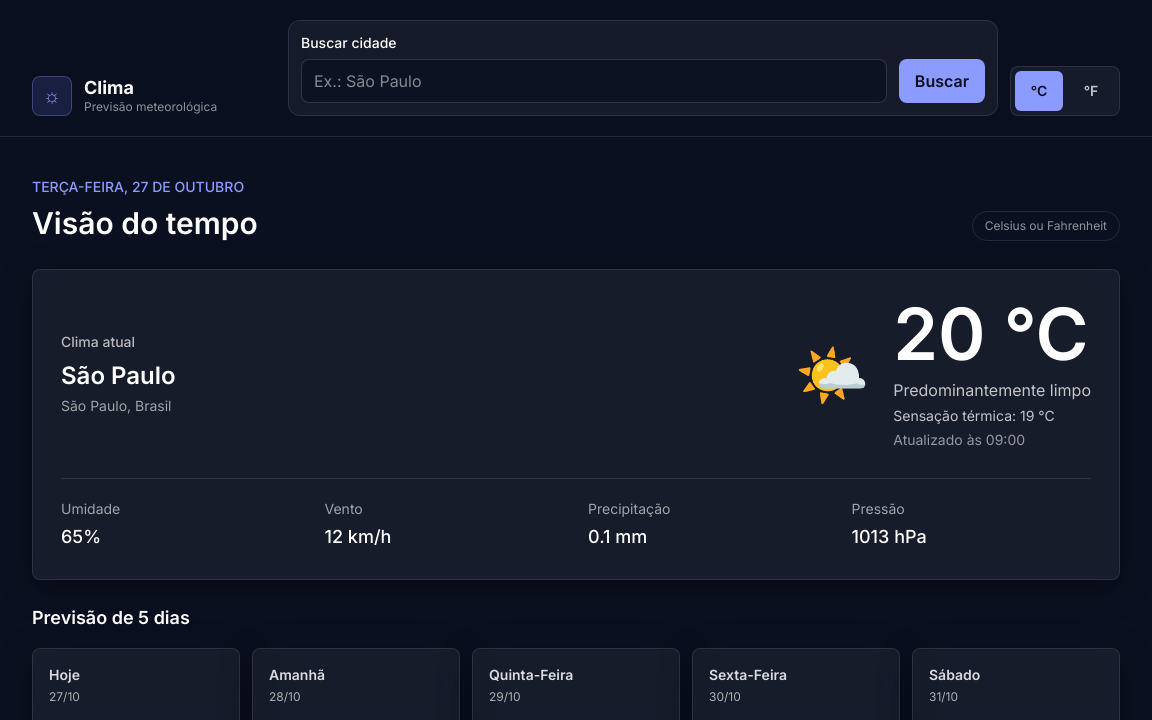
Test: App: foco e loading › não move o foco ao trocar unidade e não refaz busca
Click the button named "Fahrenheit": (1091, 91) top-left (1067, 71), bottom-right (1115, 111)
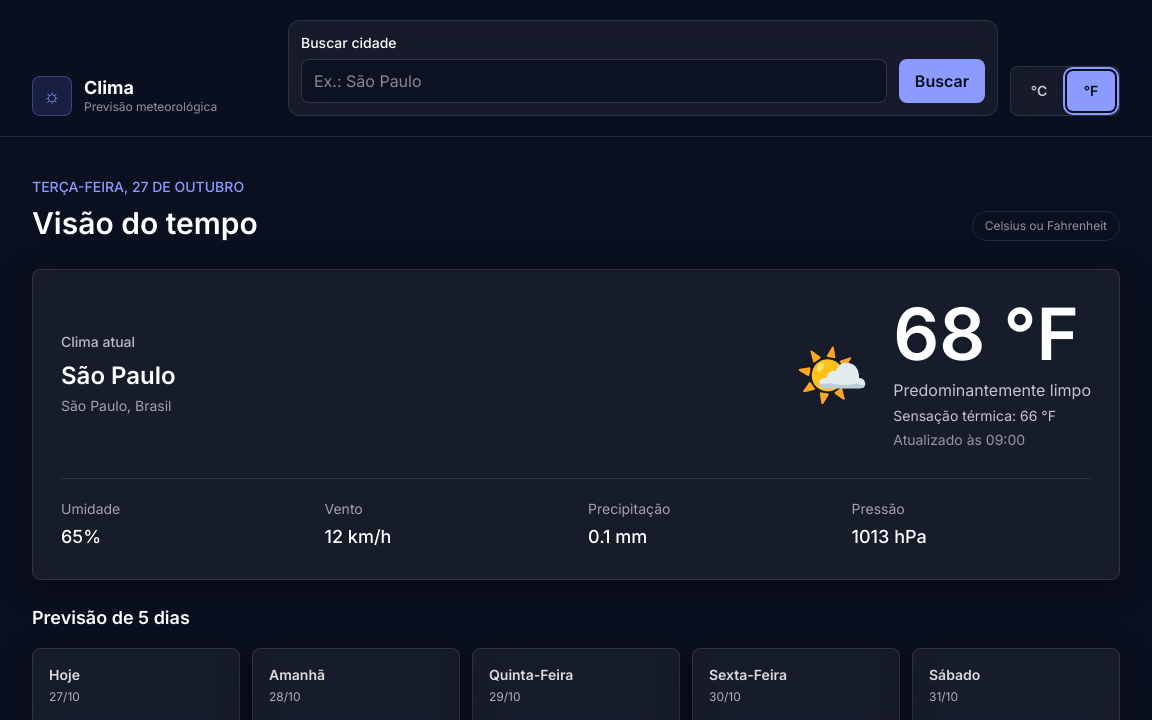
Result: the message named "Temperatura atual" reads "68 °F" at top-left (893, 290), bottom-right (1079, 377)
